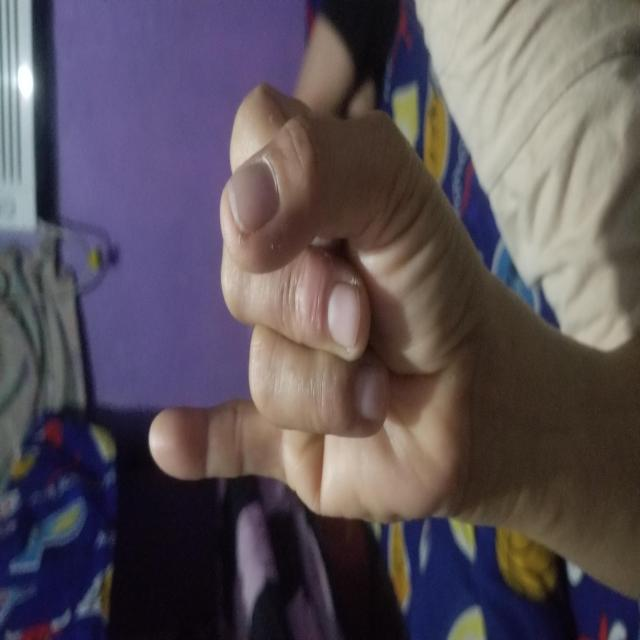I: (118, 149, 556, 479)
